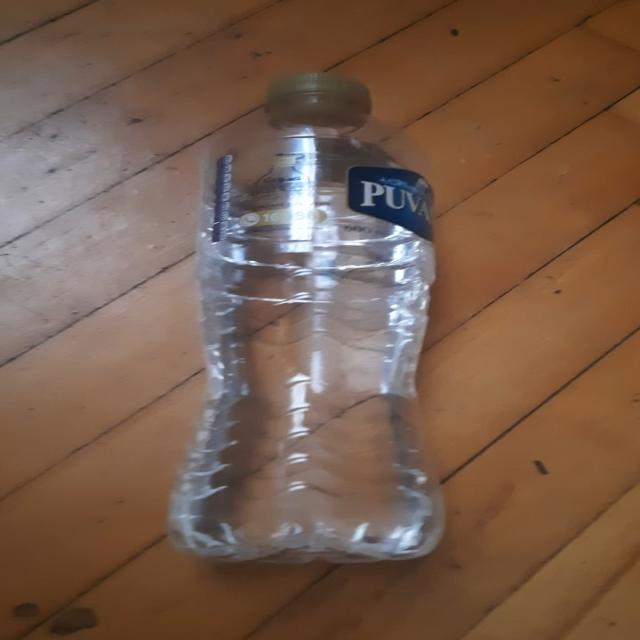Plastic: (165, 72, 447, 568)
